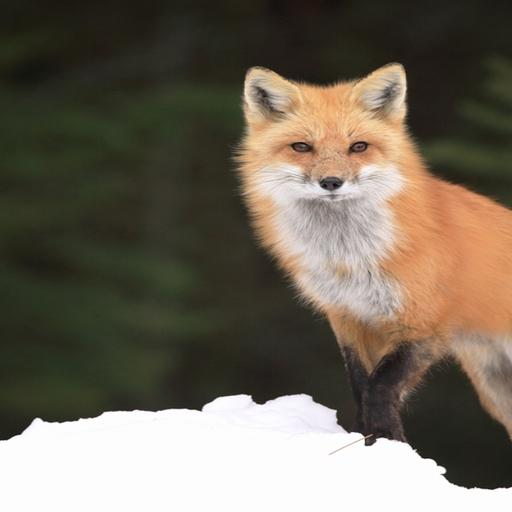Fox: (235, 62, 512, 450)
